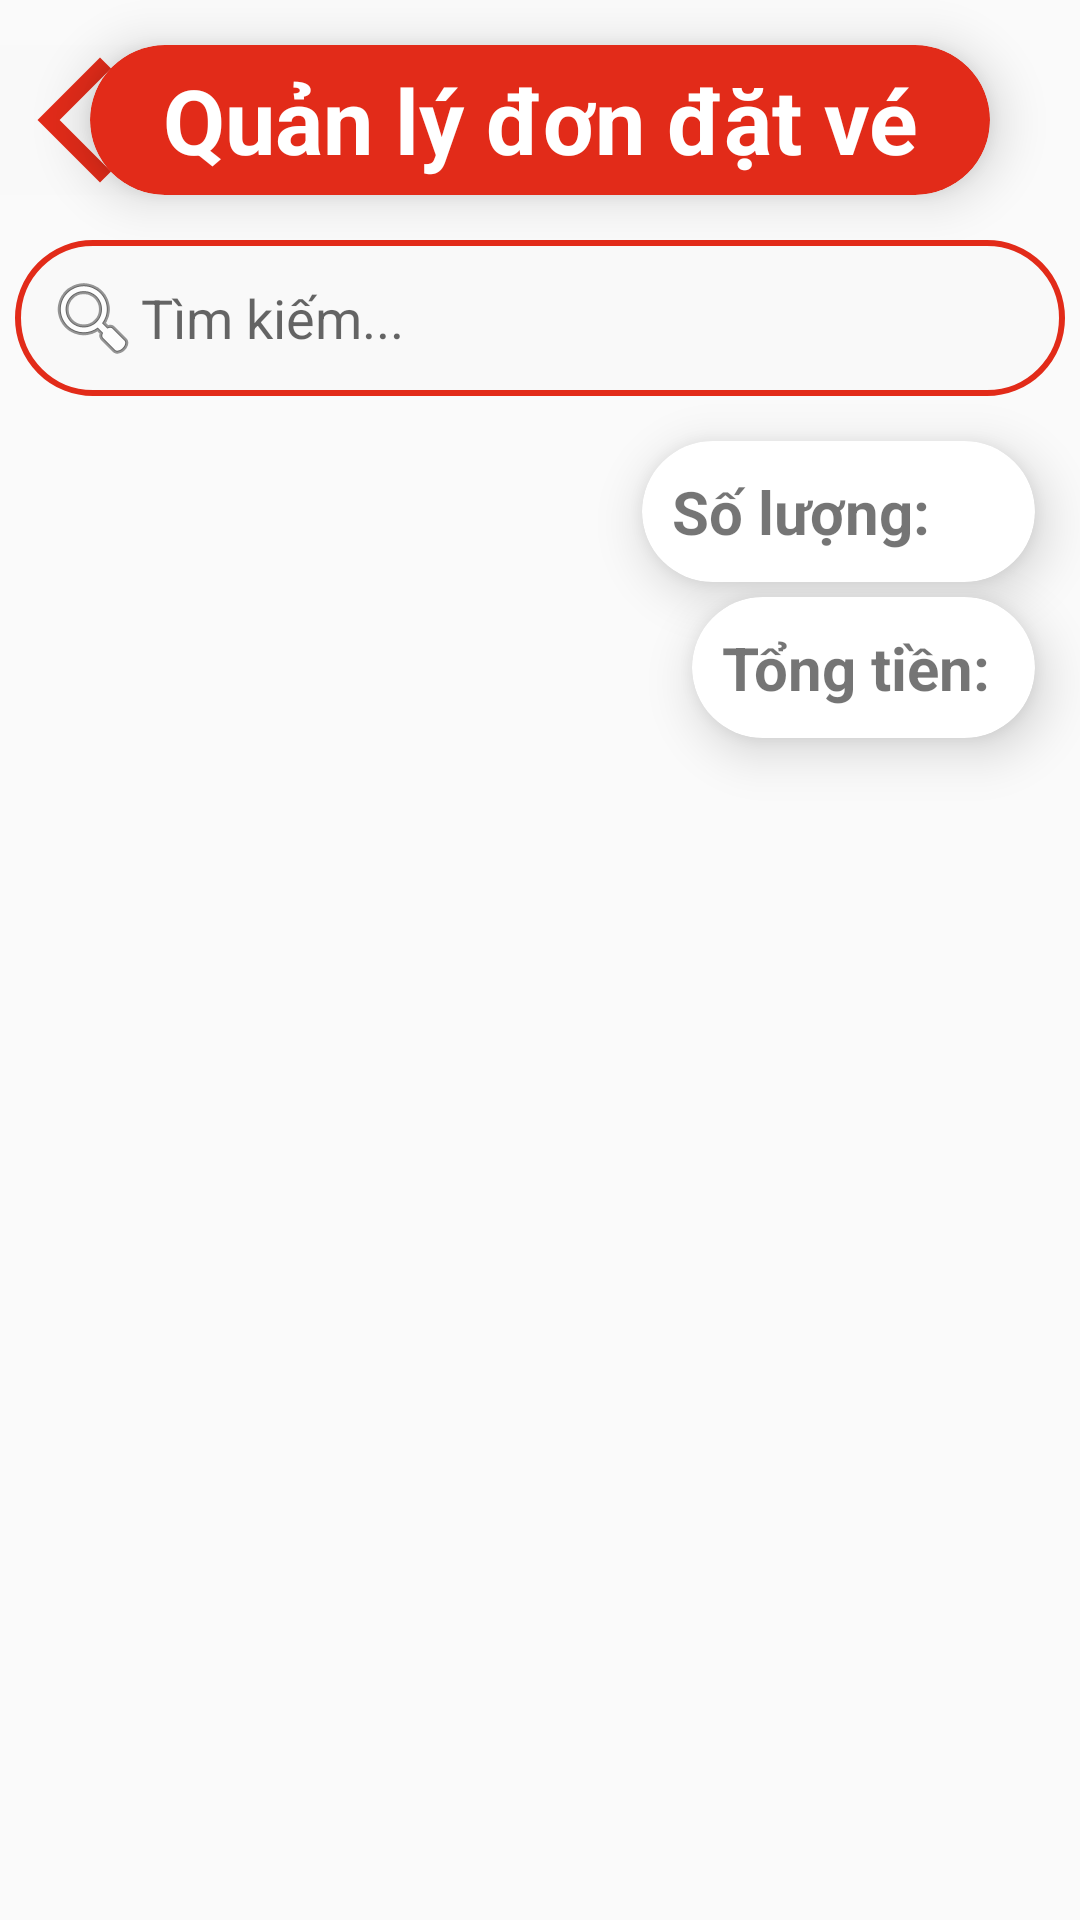

Where to tap for icons on this 1080 × 1920 app screen, as (x,y):
back: (93,120)
